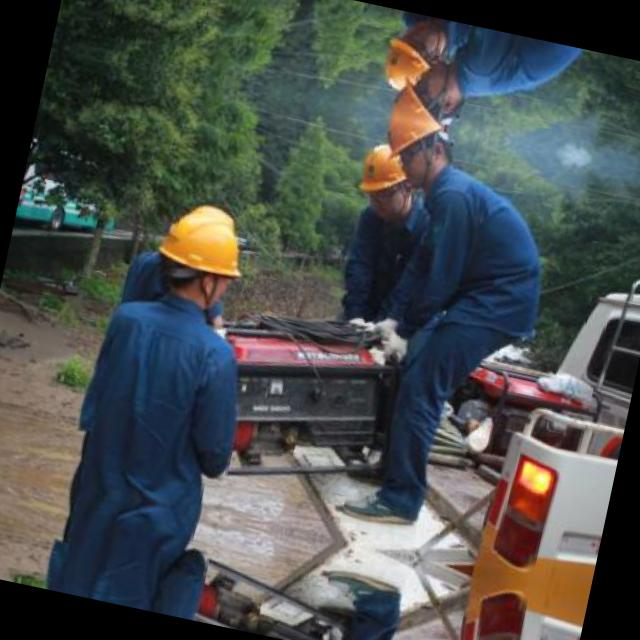helmet: (136, 182, 262, 322), (369, 115, 463, 198), (383, 49, 477, 132), (375, 15, 440, 99), (350, 136, 414, 219)
